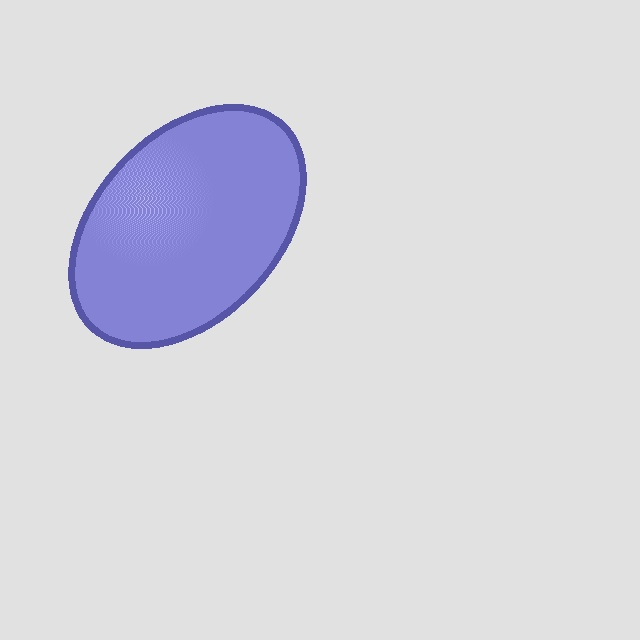lens: (72, 107, 302, 345)
